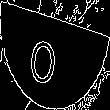O_N: (39, 25, 71, 85)
